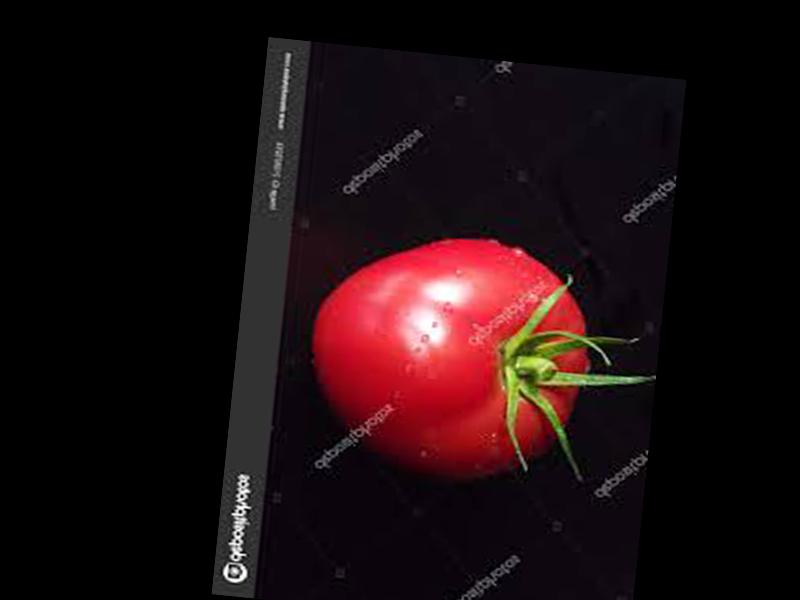Tomato: (301, 222, 599, 490)
